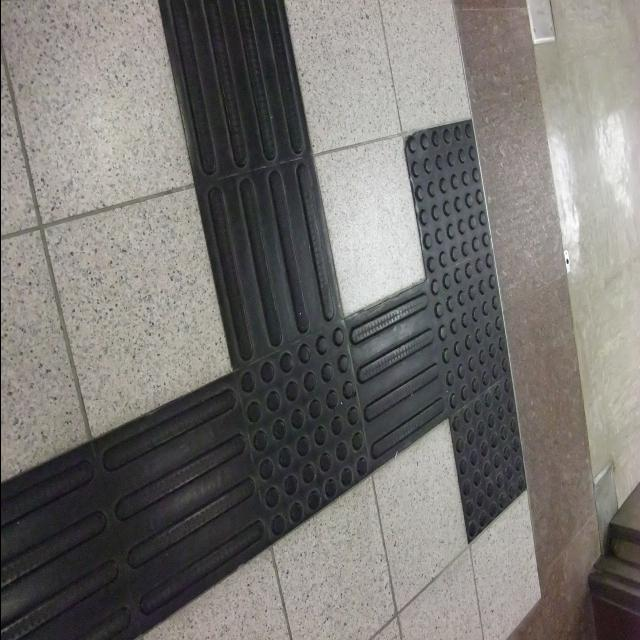tactile-guide-path: (156, 0, 341, 378), (0, 376, 264, 640), (402, 116, 530, 548), (236, 318, 374, 556), (342, 280, 448, 472)
